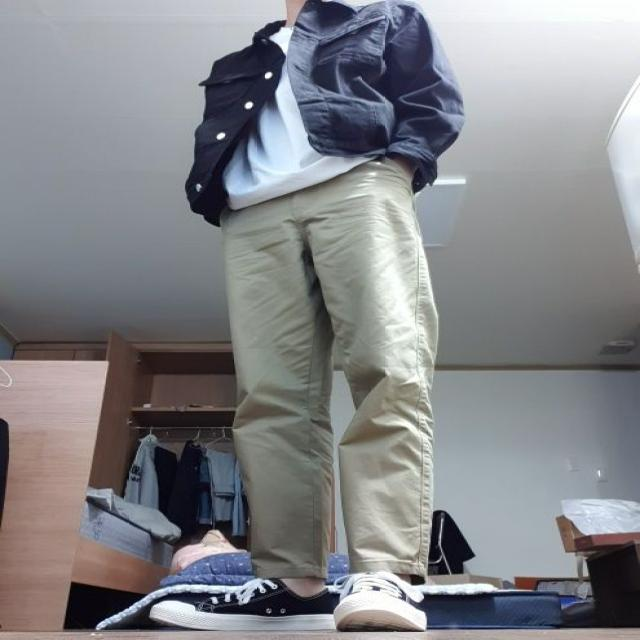cottonpants: (220, 165, 438, 588)
jacket: (187, 4, 462, 214)
